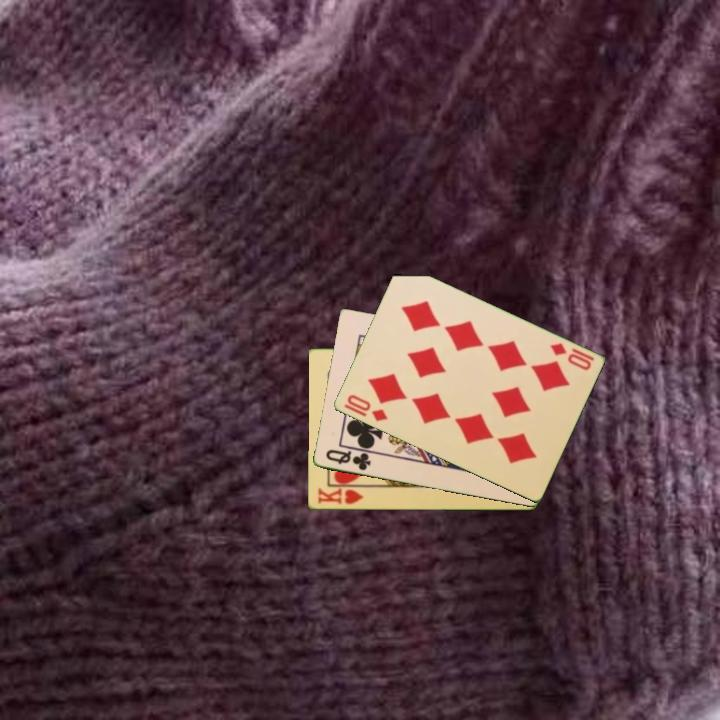10d: (340, 391, 391, 425), (546, 340, 597, 373)
Kh: (314, 484, 370, 507)
Qc: (322, 446, 374, 473)
